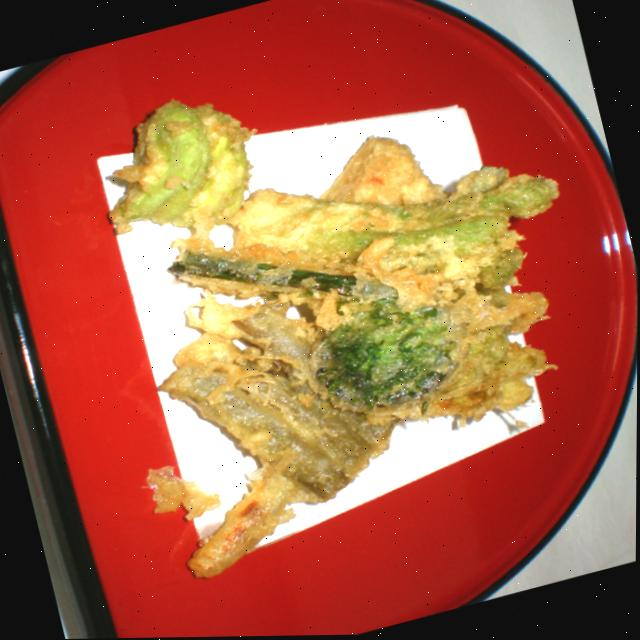蔬菜料理: (29, 0, 640, 596)
